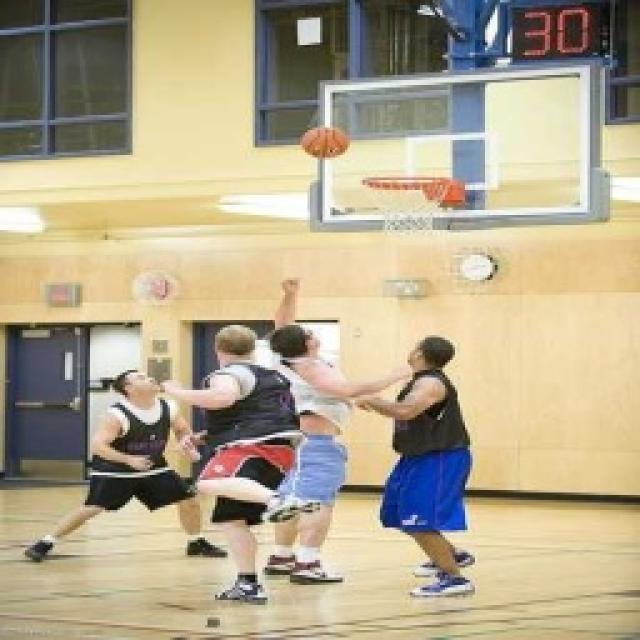rim: (302, 120, 352, 165)
